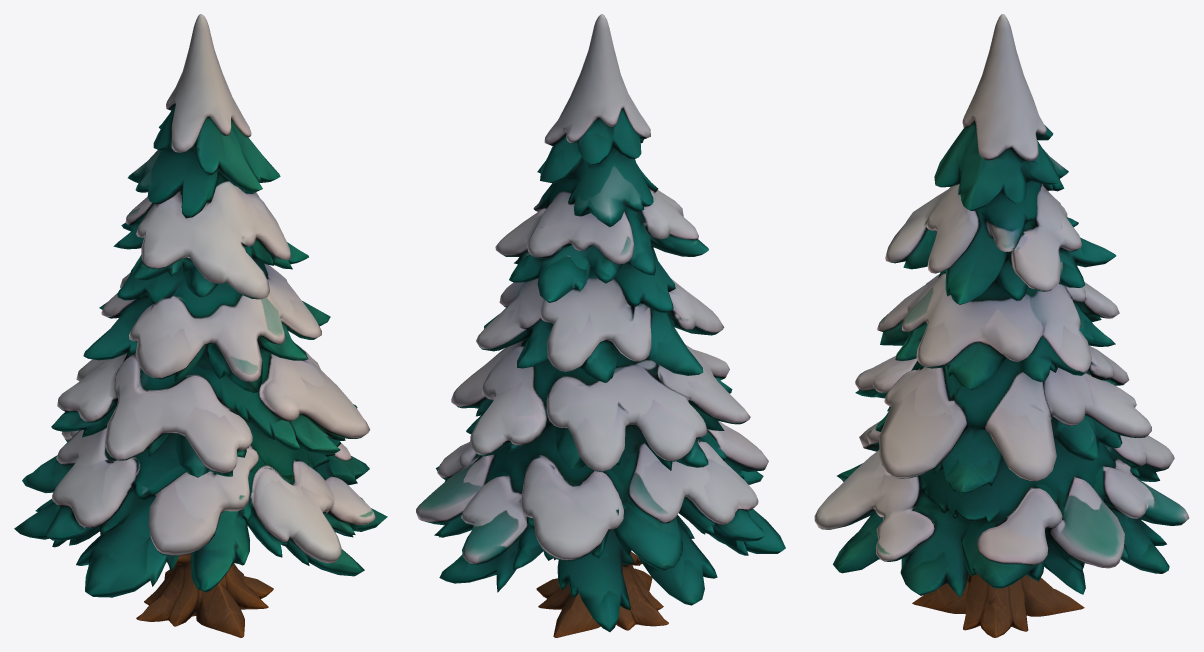
The model's file is tree-pine.glb.
The picture shows the model from 3 angles, left to right: view 1: azimuth 30°, elevation 25°; view 2: azimuth 150°, elevation 25°; view 3: azimuth 270°, elevation 25°; orthographic projection.
Visible parts, largest first — view 1: tripo_183fb50b_8ffa_457c_bc68_cfe6ab163e5b; view 2: tripo_183fb50b_8ffa_457c_bc68_cfe6ab163e5b; view 3: tripo_183fb50b_8ffa_457c_bc68_cfe6ab163e5b.
Part boxes in pixels (<box>): tripo_183fb50b_8ffa_457c_bc68_cfe6ab163e5b: <box>14,14,387,637</box>; tripo_183fb50b_8ffa_457c_bc68_cfe6ab163e5b: <box>416,14,785,637</box>; tripo_183fb50b_8ffa_457c_bc68_cfe6ab163e5b: <box>814,14,1189,637</box>.
Size of the model in its own units: 0.5708 by 0.9995 by 0.5728.
Materials: 1 (1 with a texture image).
